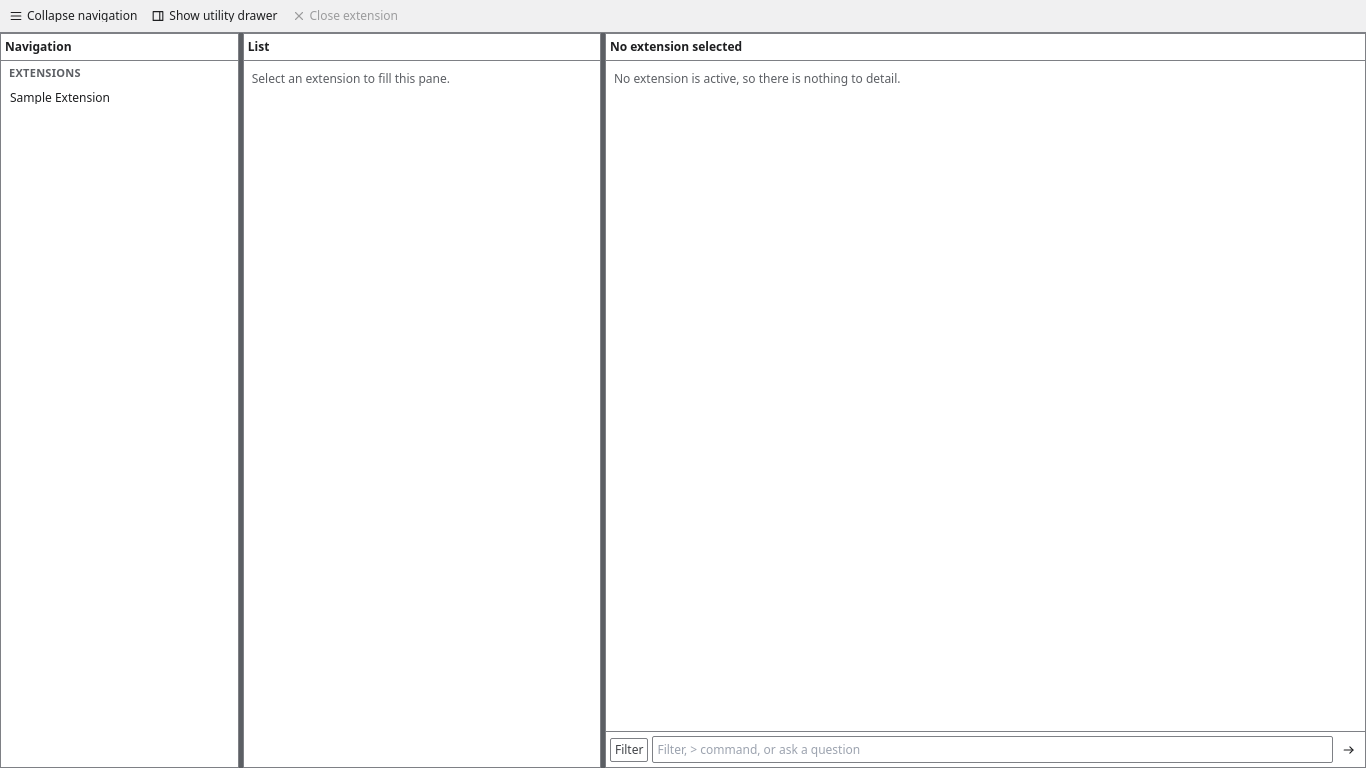
Test: ShellLayout — pane 1 collapse › collapses to a 48px icon track and expands back
Click the button "Collapse navigation" at (73, 16), box [4,4,142,28]
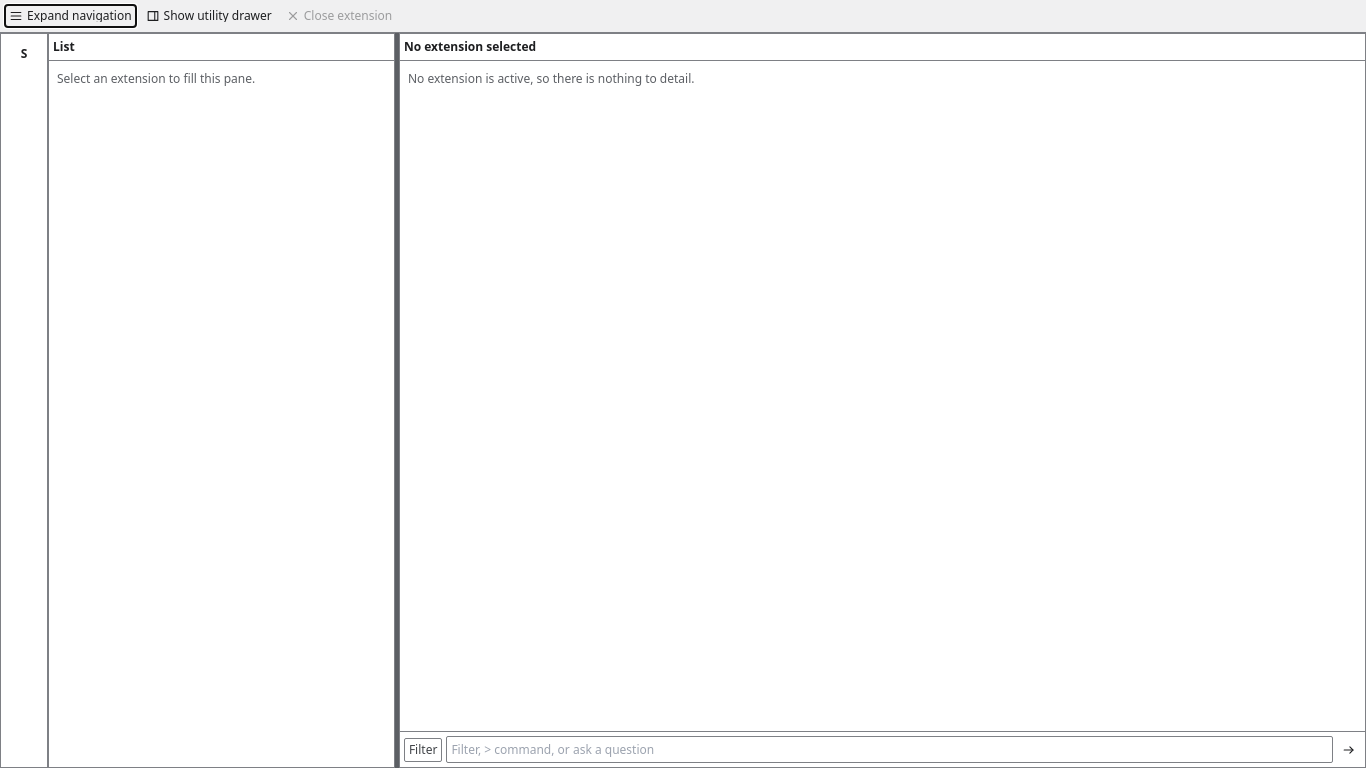
Expected: the element named "Navigation" is shown, [0,33,48,767]
Click the button "Expand navigation" at (70, 16), box [4,4,137,28]
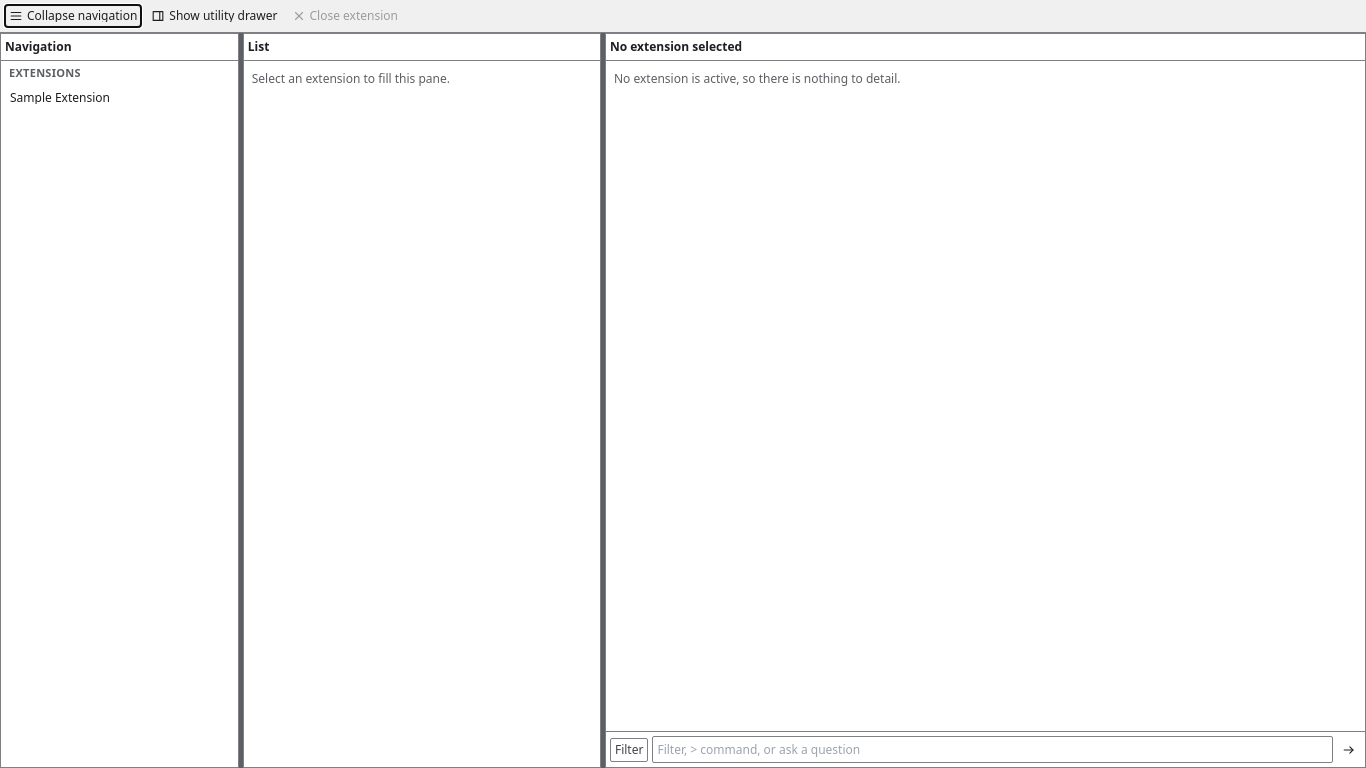
Expected: the element showing "Navigation Extensions Sample Extension" is shown, [0,33,239,767]
